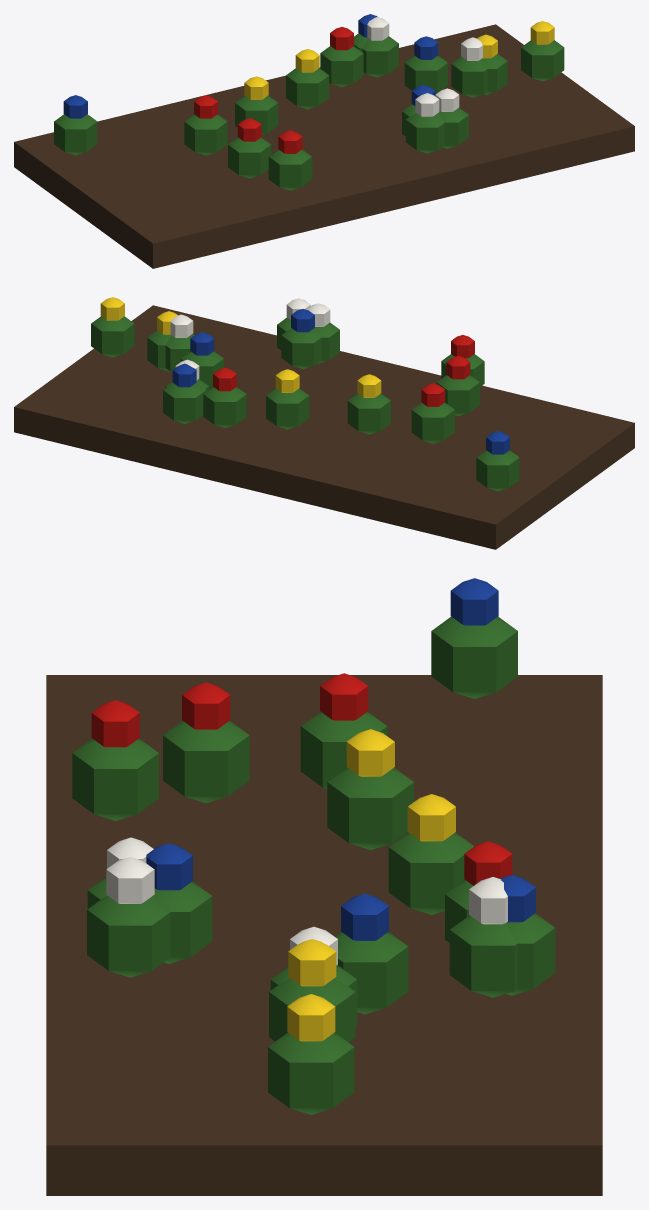
Rendered from landscape.bed.flowers.glb.
3 renders of one model, top to bottom at view 1: azimuth 30°, elevation 25°; view 2: azimuth 150°, elevation 25°; view 3: azimuth 270°, elevation 25°, orthographic. The views are drawn at different scales.
Parts seen in each view (by area): view 1: main__soil, main__foliage, main__plastic_red, main__fabric_white, main__plastic_yellow, main__plastic_blue; view 2: main__soil, main__foliage, main__plastic_blue, main__plastic_red, main__plastic_yellow, main__fabric_white; view 3: main__soil, main__foliage, main__plastic_yellow, main__plastic_red, main__plastic_blue, main__fabric_white.
Part boxes in pixels (bbox=[...]): main__soil: bbox=[14, 24, 634, 268]; main__foliage: bbox=[54, 33, 564, 190]; main__plastic_red: bbox=[194, 27, 353, 153]; main__fabric_white: bbox=[367, 17, 482, 116]; main__plastic_yellow: bbox=[244, 21, 554, 99]; main__plastic_blue: bbox=[63, 14, 438, 118]; main__soil: bbox=[14, 305, 634, 549]; main__foliage: bbox=[91, 316, 519, 491]; main__plastic_blue: bbox=[172, 309, 509, 454]; main__plastic_red: bbox=[213, 335, 474, 406]; main__plastic_yellow: bbox=[100, 297, 381, 397]; main__fabric_white: bbox=[170, 298, 330, 380]; main__soil: bbox=[46, 675, 602, 1195]; main__foliage: bbox=[72, 616, 555, 1114]; main__plastic_yellow: bbox=[287, 729, 455, 1041]; main__plastic_red: bbox=[91, 673, 512, 885]; main__plastic_blue: bbox=[146, 578, 535, 940]; main__fabric_white: bbox=[106, 837, 507, 965].
Bounding box in the file's own units: 2 × 0.35 × 1.
